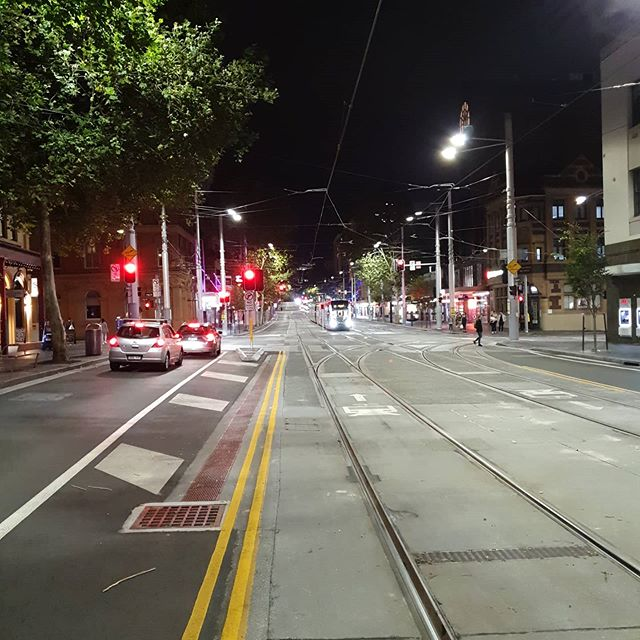building: (580, 1, 640, 355), (476, 154, 597, 325), (47, 220, 201, 337)
car: (105, 321, 181, 373), (174, 324, 224, 360)
street: (1, 341, 640, 639)
train: (300, 297, 367, 338)
train track: (283, 346, 640, 640)
tree: (1, 10, 263, 351)
